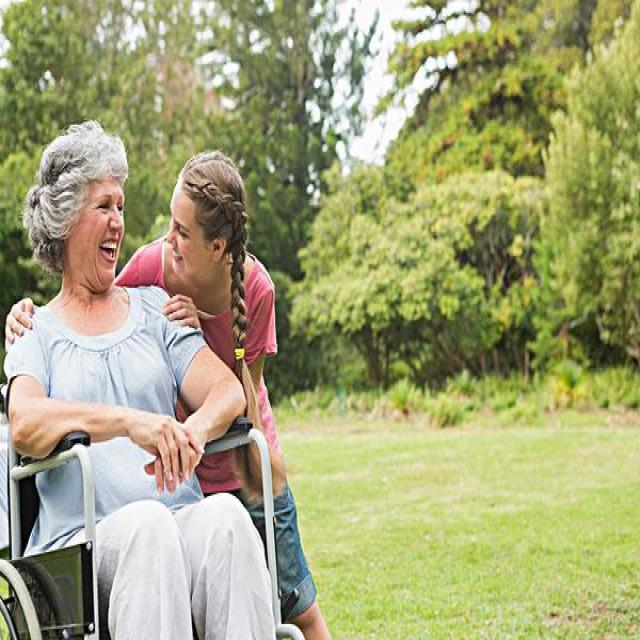wheelchairs: (0, 363, 307, 639)
